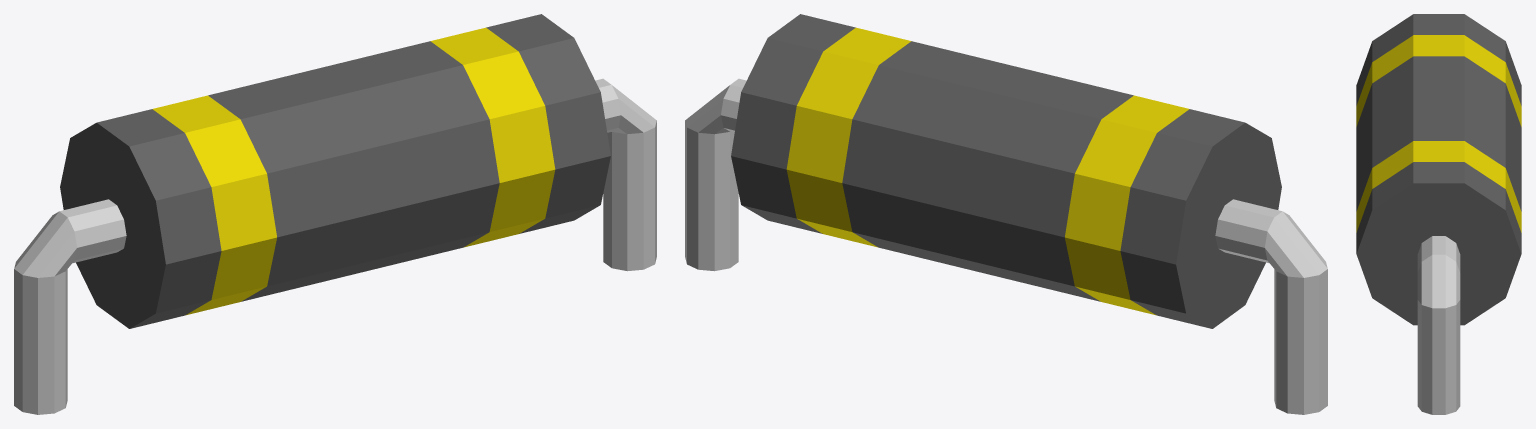
File: TransYeloww.fbx
3 views of the same model, side by side, from view 1: azimuth 30°, elevation 25°; view 2: azimuth 150°, elevation 25°; view 3: azimuth 270°, elevation 25° (orthographic). The views are drawn at different scales.
Parts seen in each view (by area): view 1: Cylinder; view 2: Cylinder; view 3: Cylinder.
Part boxes in pixels (bbox=[...]): Cylinder: bbox=[14, 14, 656, 414]; Cylinder: bbox=[685, 14, 1327, 414]; Cylinder: bbox=[1356, 14, 1521, 414].
Size of the model in its own units: 202 by 76.52 by 58.44.
